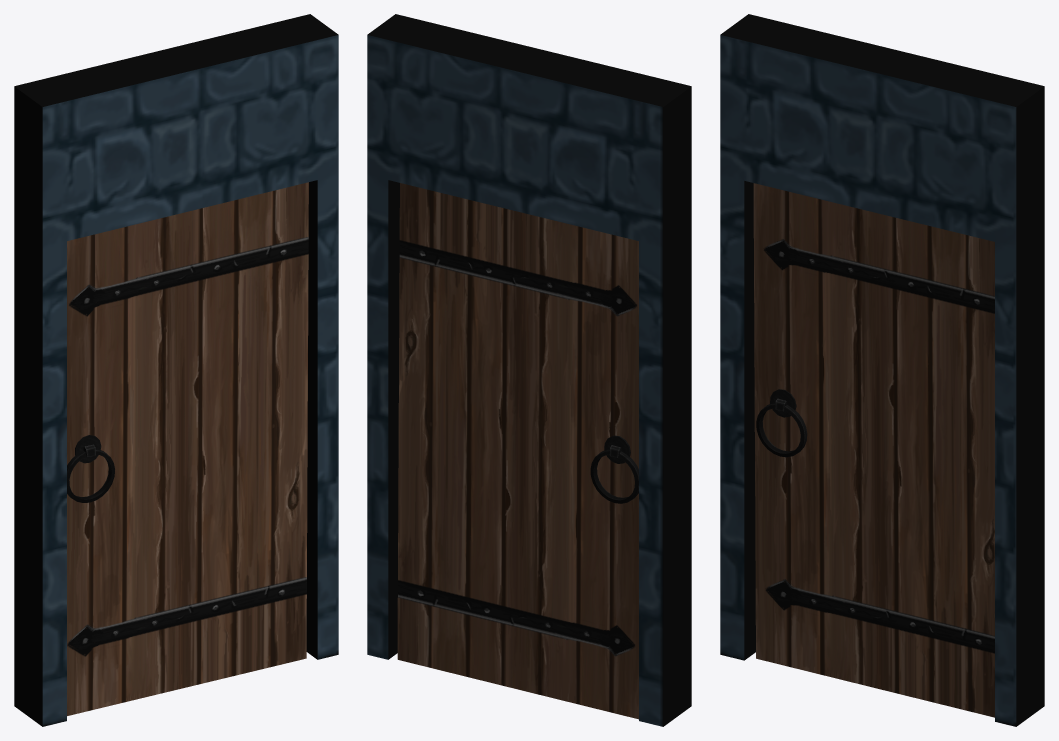
The model's file is Deur.fbx.
The picture shows the model from 3 angles, left to right: view 1: azimuth 30°, elevation 25°; view 2: azimuth 150°, elevation 25°; view 3: azimuth 330°, elevation 25°; orthographic projection.
Visible parts, largest first — view 1: pasted__pCube1, pasted__Wall_01, pTorus1; view 2: pasted__pCube1, pasted__Wall_01, pasted__pTorus1; view 3: pasted__pCube1, pasted__Wall_01, pTorus1.
Boxes of the visible parts, x1,y1,x2,y2 form: pasted__pCube1: [67, 182, 308, 715]; pasted__Wall_01: [14, 14, 338, 726]; pTorus1: [67, 444, 114, 502]; pasted__pCube1: [397, 183, 638, 719]; pasted__Wall_01: [367, 14, 691, 726]; pasted__pTorus1: [590, 445, 638, 503]; pasted__pCube1: [753, 183, 994, 717]; pasted__Wall_01: [720, 14, 1044, 726]; pTorus1: [756, 398, 807, 457].
Size of the model in its own units: 3.54 by 7.14 by 0.5897.
